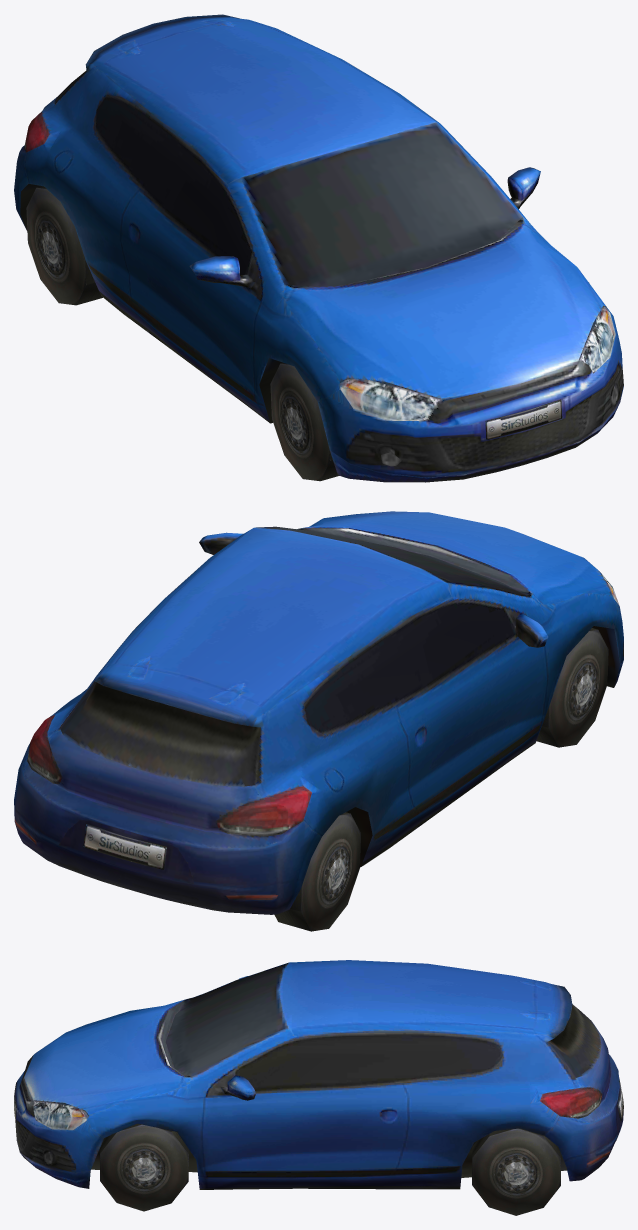
Rendered from car 6.FBX.
3 views of the same model, one above another, from view 1: azimuth 30°, elevation 25°; view 2: azimuth 150°, elevation 25°; view 3: azimuth 270°, elevation 25° (orthographic). The views are drawn at different scales.
Parts seen in each view (by area): view 1: car_01__5__2, Wheels_FR__1__145, Wheels_FR__2__145; view 2: car_01__5__2, Wheels_FR__1__145, Wheels_FR__2__145; view 3: car_01__5__2, Wheels_FR__1__145, Wheels_FR__2__145.
Boxes of the visible parts, bbox=[...] form: car_01__5__2: bbox=[14, 14, 623, 482]; Wheels_FR__1__145: bbox=[26, 186, 102, 305]; Wheels_FR__2__145: bbox=[270, 362, 339, 481]; car_01__5__2: bbox=[14, 511, 623, 914]; Wheels_FR__1__145: bbox=[274, 812, 360, 931]; Wheels_FR__2__145: bbox=[536, 628, 608, 747]; car_01__5__2: bbox=[14, 960, 623, 1189]; Wheels_FR__1__145: bbox=[472, 1128, 560, 1215]; Wheels_FR__2__145: bbox=[100, 1123, 188, 1211].
Bounding box in the file's own units: 21.11 × 14.4 × 42.49.
Materials: 2 (2 with a texture image).
